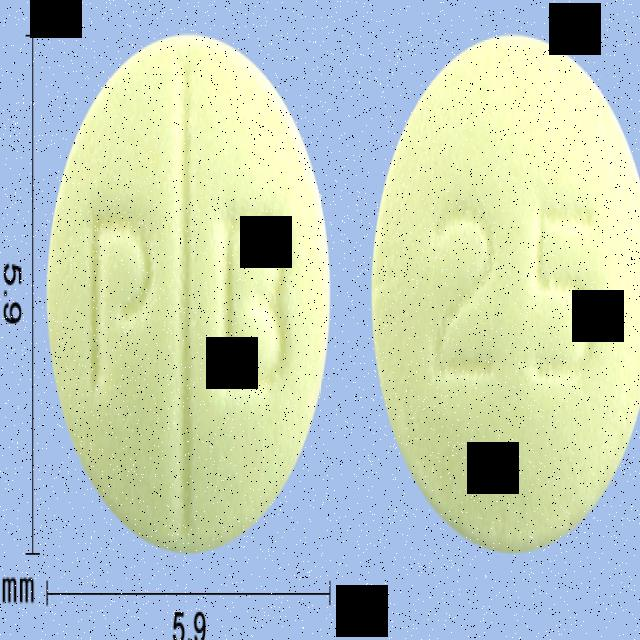Azabio: (45, 27, 335, 557)
